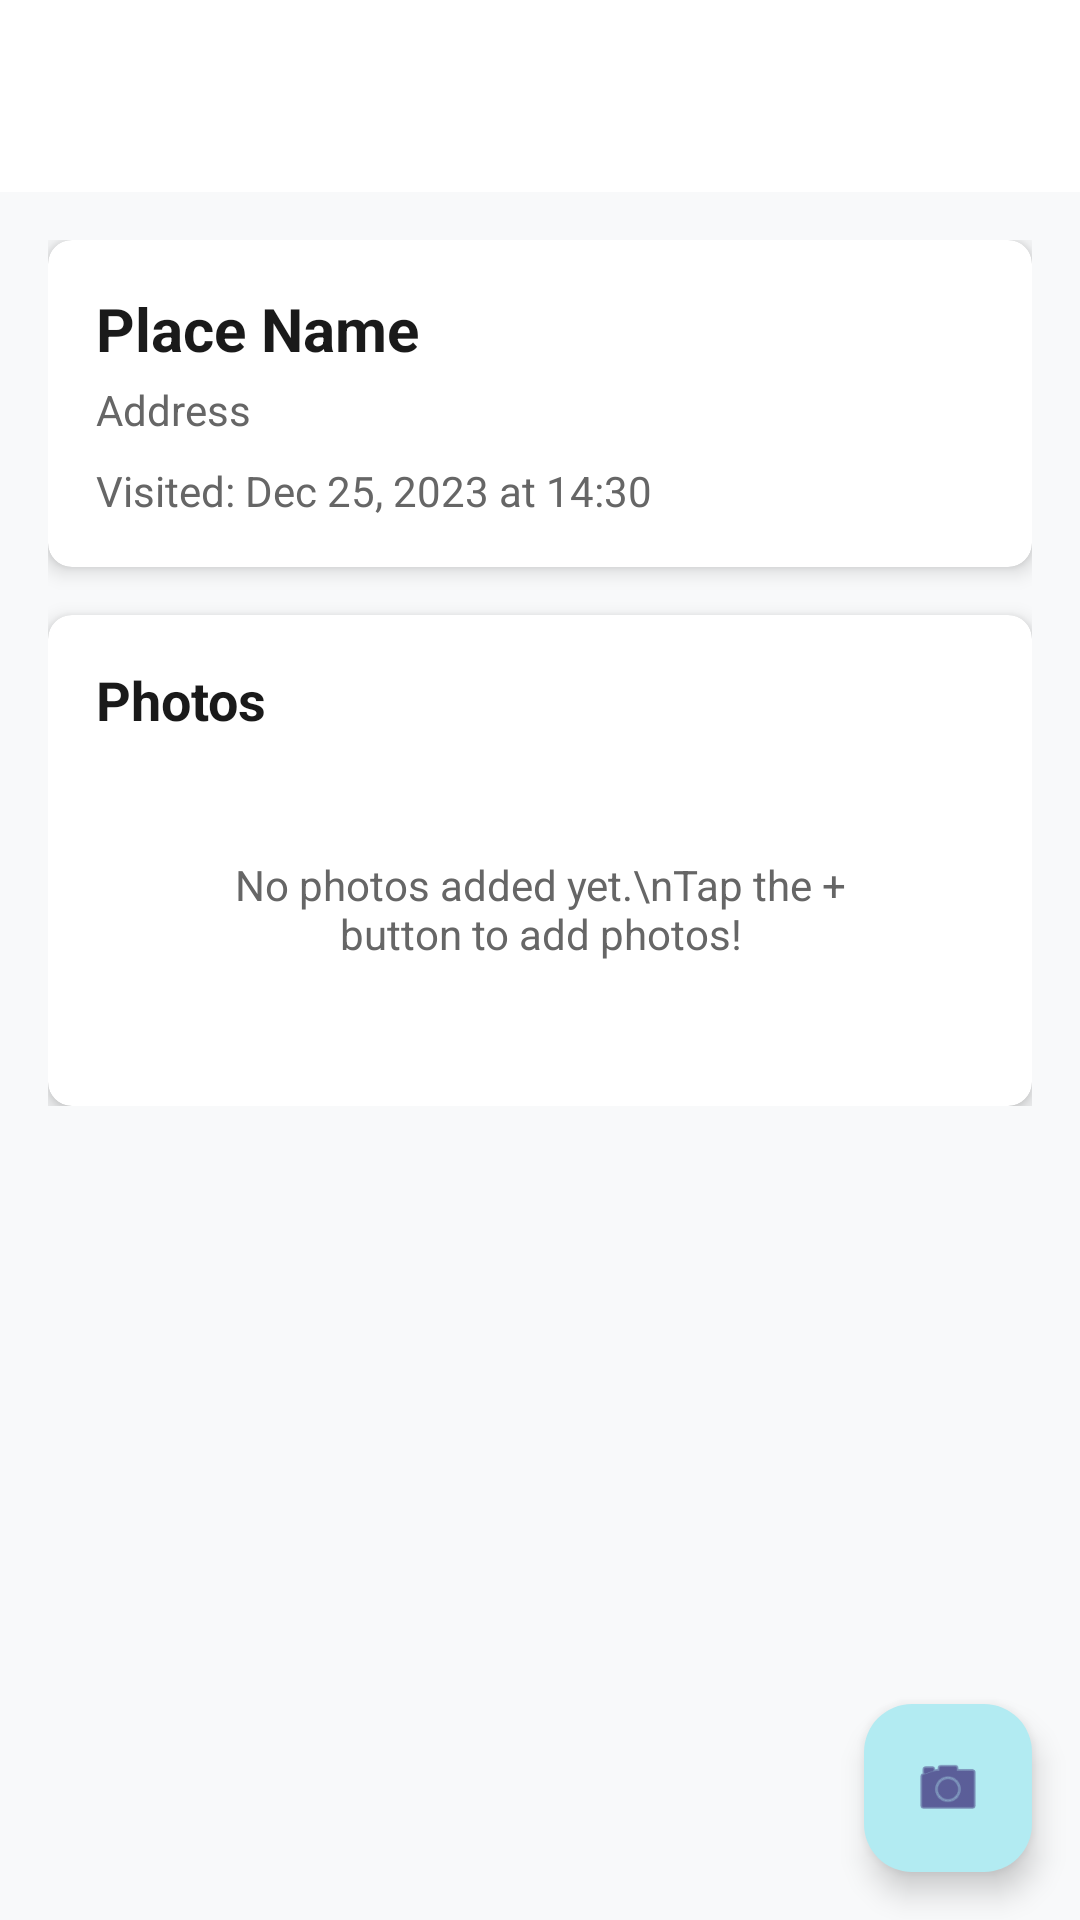

Screen size 1080×1920. Icon name, then its center in pixels as (x=x, y=y):
Add Photo: (x=948, y=1788)
